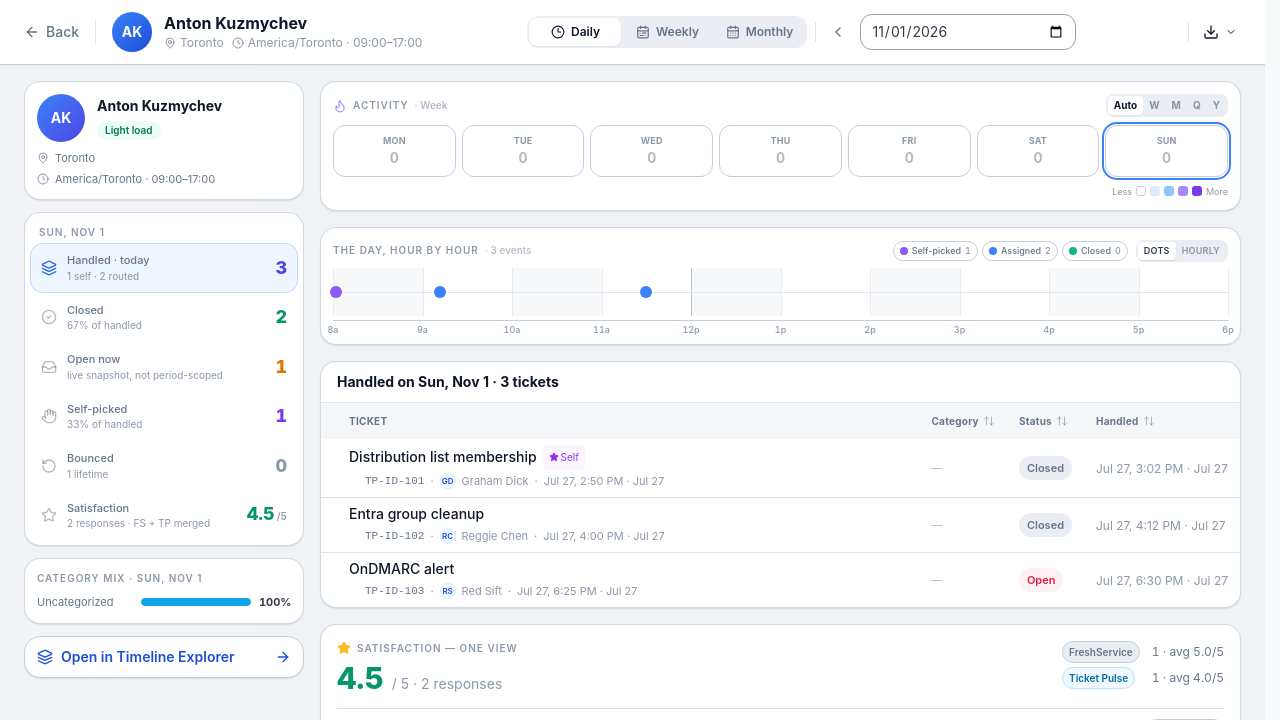
Test: TechnicianDetailNew (agent page rebuild) › clicking a chip refilters the evidence table (title follows)
Expected: the heading "Anton Kuzmychev" is shown, [164, 13, 307, 33]
Expected: the heading "Handled on Sun, Nov 1 · 3 tickets" is shown, [337, 372, 559, 392]
Note: Click Closed → the same table now tells the closed story.
Click the button with aria-label "Closed: 2". click: (85,310)
box: [31, 294, 297, 341]
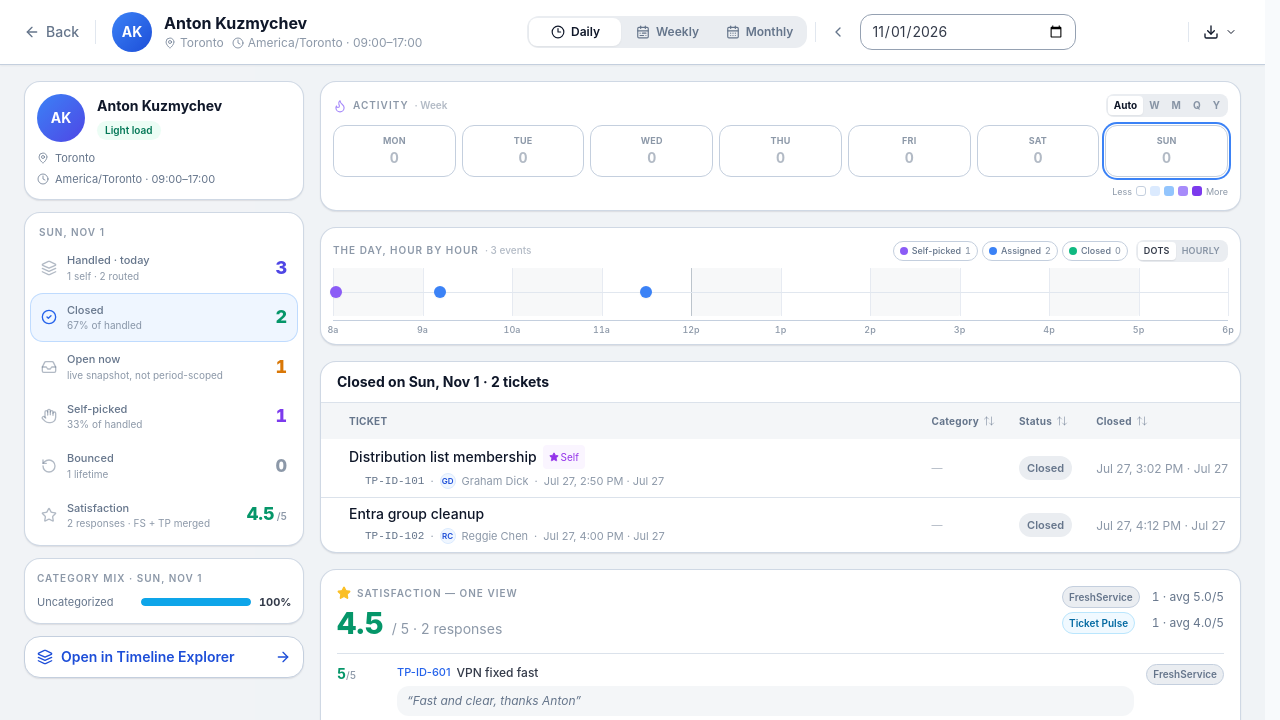
Now the heading "Closed on Sun, Nov 1 · 2 tickets" is shown, box [337, 372, 549, 392]
Now the heading "Handled on Sun, Nov 1 · 3 tickets" is gone
